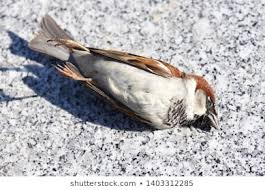home_sparrow: (26, 7, 226, 136)
